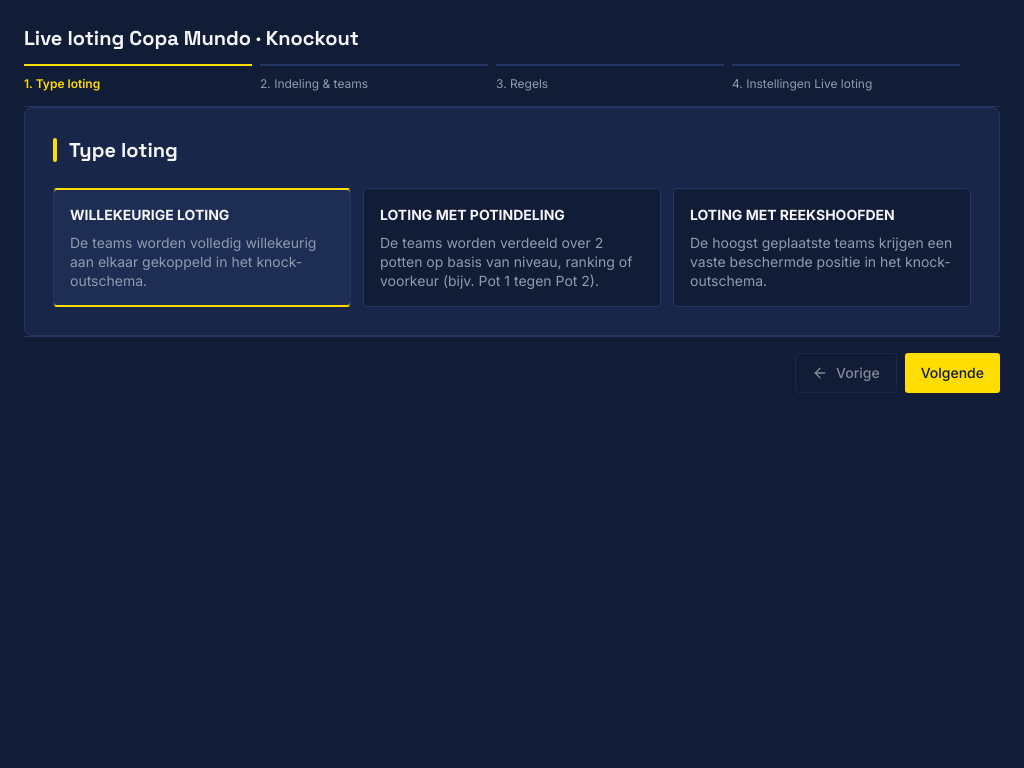
Test: Uniform draw preparation › uses four steps for knockout with suitable methods
Check: the button "Willekeurige loting" is shown, box [53, 188, 351, 307]
What coordinates should you click on to do the following:
click the button "Loting met reekshoofden"
I would click on:
 (822, 247)
Its box is [673, 188, 971, 307].
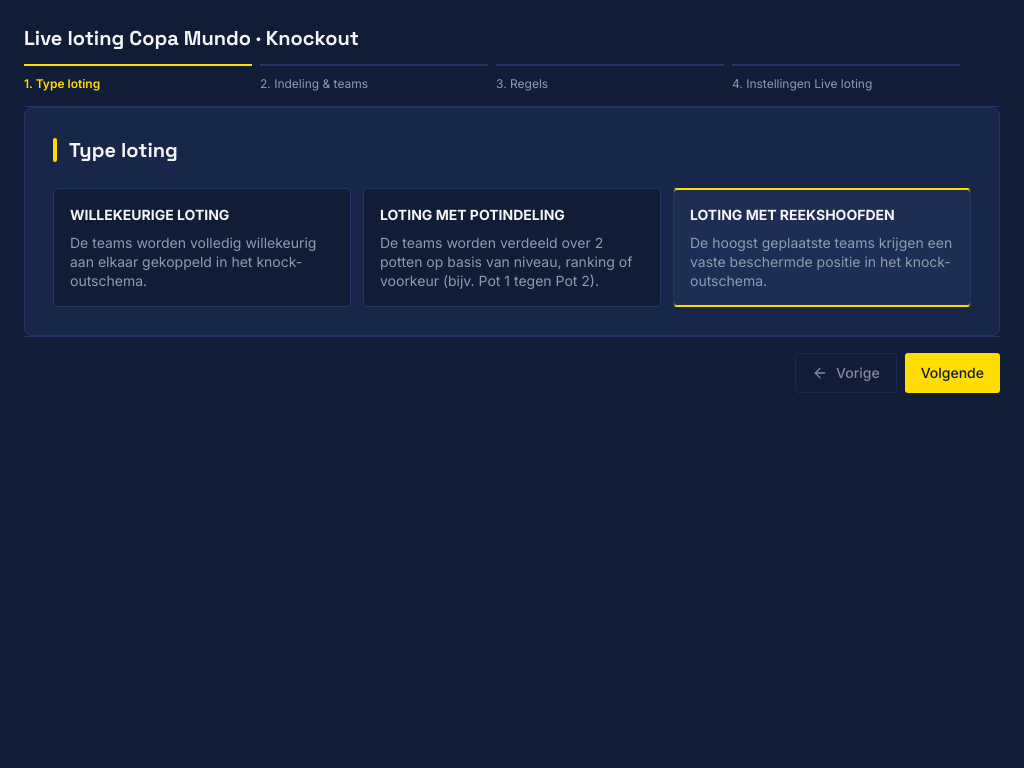
What coordinates should you click on to do the following:
click the button "Volgende"
I would click on:
 (952, 373)
Its box is [905, 353, 1000, 393].
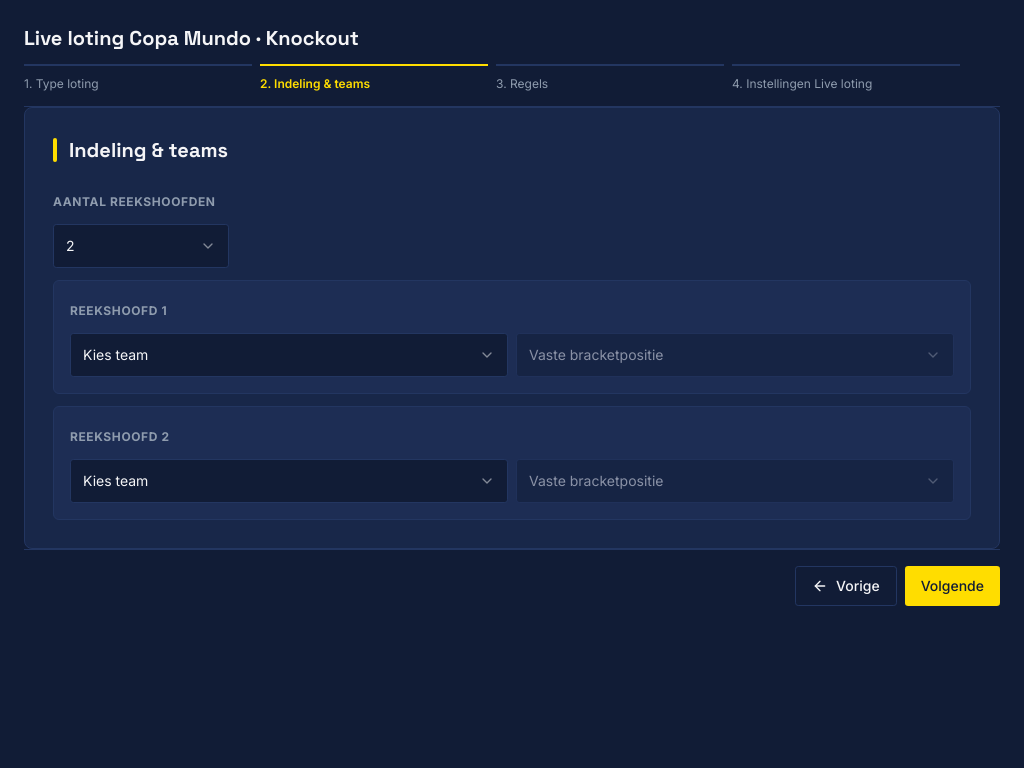
Check: the dropdown named "Aantal reekshoofden" reads "2", box [53, 224, 229, 268]
Check: the dropdown named "Reekshoofd 2" is shown, box [70, 458, 508, 502]
